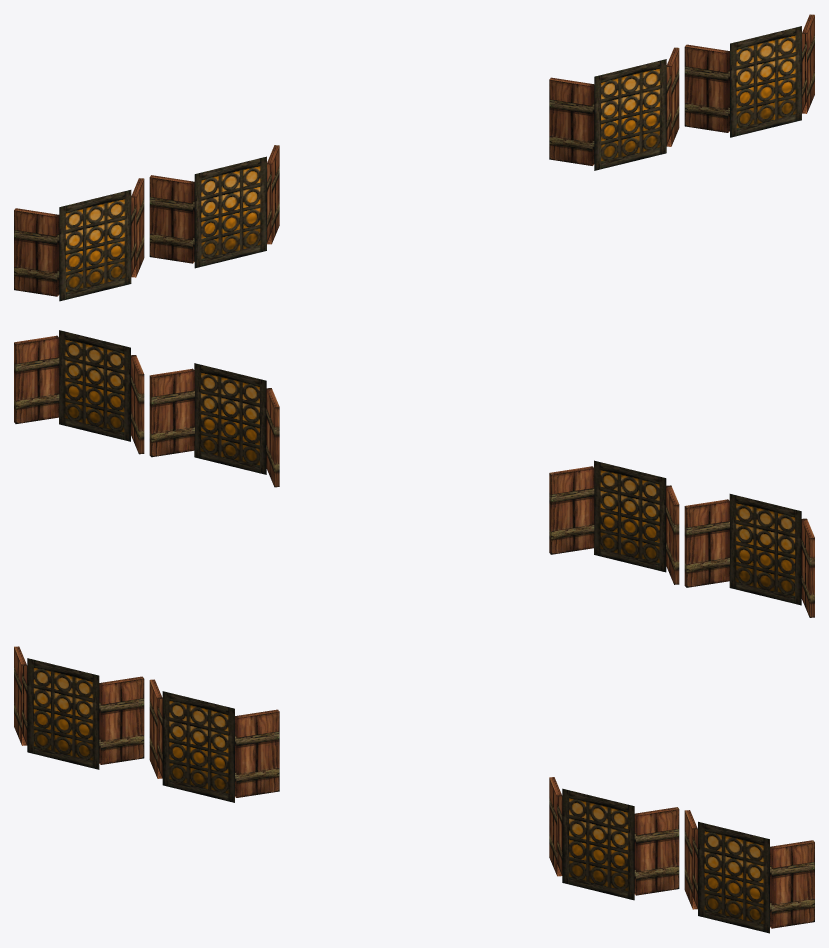
Rendered from LAKETOWN_EXTERIOR_PS_LT_ROUND_WINDOW1_07.fbx.
3 views of the same model, one above another, from view 1: azimuth 30°, elevation 25°; view 2: azimuth 150°, elevation 25°; view 3: azimuth 330°, elevation 25° (orthographic).
Parts seen in each view (by area): view 1: LAKETOWN_EXTERIOR_PS_LT_ROUND_WINDOW1_07; view 2: LAKETOWN_EXTERIOR_PS_LT_ROUND_WINDOW1_07; view 3: LAKETOWN_EXTERIOR_PS_LT_ROUND_WINDOW1_07.
Part boxes in pixels (x1,y1,x2,y2): LAKETOWN_EXTERIOR_PS_LT_ROUND_WINDOW1_07: (14, 14, 814, 301); LAKETOWN_EXTERIOR_PS_LT_ROUND_WINDOW1_07: (14, 330, 814, 617); LAKETOWN_EXTERIOR_PS_LT_ROUND_WINDOW1_07: (14, 646, 814, 933).
Size of the model in its own units: 130220 by 14646 by 5472.
Materials: 2 (2 with a texture image).
